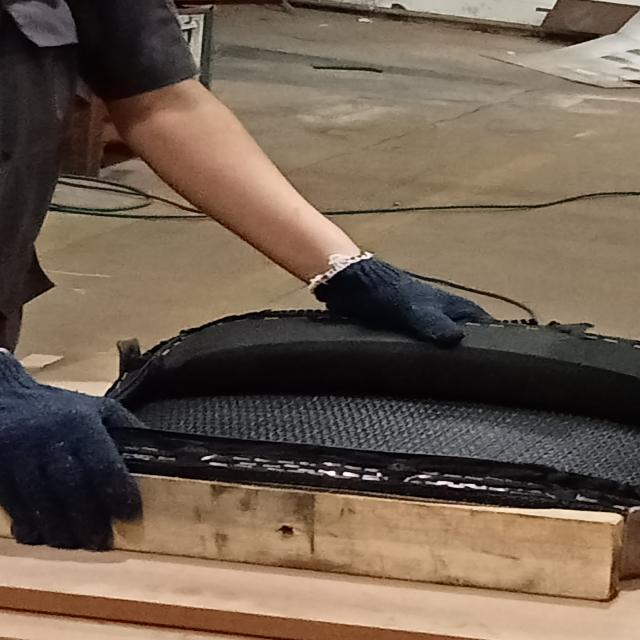Gloves-Detection: (0, 349, 134, 550), (328, 263, 466, 340)
